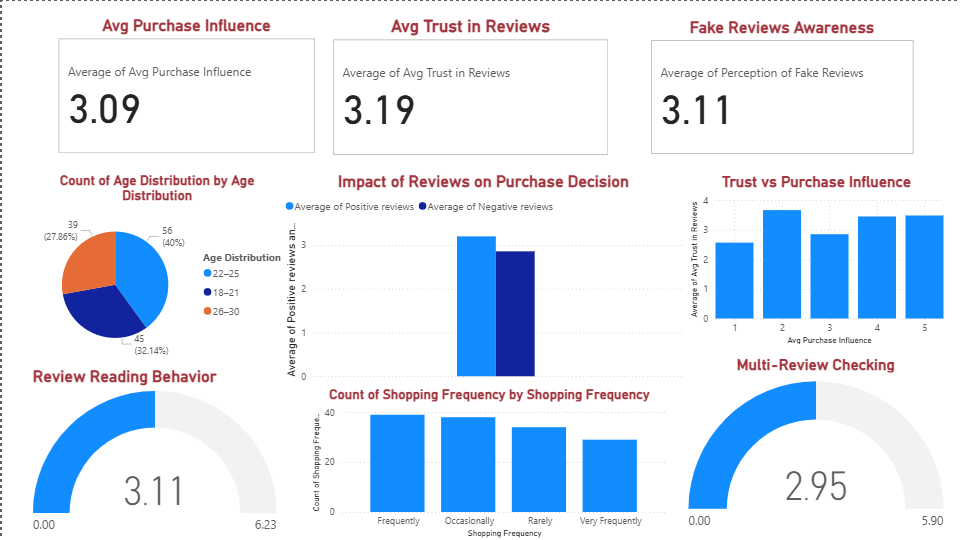

Layout of this report page (visuals, bound fields, positions):
{"tool":"powerbi","page":{"name":"Page 1","canvas":[1280,720],"ordinal":0},"visuals":[{"type":"pieChart","fields":{"Category":["Timestamp (Sheet1).Age group"],"Y":["CountNonNull(Timestamp (Sheet1).Age group)"]},"box":[28,228,358,260],"z":0},{"type":"cardVisual","title":"Avg Purchase Influence","fields":{"Data":["Avg(Timestamp (Sheet1).Avg Purchase Influence)"]},"box":[70,20,352,188],"z":1},{"type":"cardVisual","title":"Avg Trust in Reviews","fields":{"Data":["Avg(Timestamp (Sheet1).Avg Trust in Reviews)"]},"box":[435,20,377.5,190],"z":2},{"type":"cardVisual","title":"Fake Reviews Awareness","fields":{"Data":["Avg(Timestamp (Sheet1).Perception of Fake Reviews)"]},"box":[860,22.5,360,187.5],"z":3},{"type":"clusteredColumnChart","fields":{"Category":["Timestamp (Sheet1).How often do you shop online?"],"Y":["CountNonNull(Timestamp (Sheet1).How often do you shop online?)"]},"box":[408,514,484,206],"z":4},{"type":"clusteredColumnChart","title":"Impact of Reviews on Purchase Decision","fields":{"Y":["Avg(Timestamp (Sheet1).Positive reviews increase my likelihood of purchasing a product.)","Avg(Timestamp (Sheet1).Negative reviews discourage me from buying a product.)"]},"box":[372,228,540,286],"z":5},{"type":"gauge","title":"Review Reading Behavior","fields":{"Y":["Avg(Timestamp (Sheet1).How often do you read online reviews before purchasing a product?)"]},"box":[35,487.5,335,232.5],"z":7},{"type":"gauge","title":"Multi-Review Checking","fields":{"Y":["Avg(Timestamp (Sheet1).I check multiple reviews before making a final purchase decision.)"]},"box":[910,472.5,350,247.5],"z":8},{"type":"clusteredColumnChart","title":"Trust vs Purchase Influence","fields":{"Category":["Timestamp (Sheet1).Avg Purchase Influence"],"Y":["Avg(Timestamp (Sheet1).Avg Trust in Reviews)"]},"box":[912,228,348,234],"z":9}]}

Visuals, with their boxes in screenshot pixels (x1, y1, x2, y2), scaled from the page's 1280x720 canvas onto the 961x540 screenshot:
pieChart - Timestamp (Sheet1).Age group x CountNonNull(Timestamp (Sheet1).Age group): box(21, 171, 290, 366)
"Avg Purchase Influence" cardVisual: box(53, 15, 317, 156)
"Avg Trust in Reviews" cardVisual: box(327, 15, 610, 158)
"Fake Reviews Awareness" cardVisual: box(646, 17, 916, 158)
clusteredColumnChart - Timestamp (Sheet1).How often do you shop online? x CountNonNull(Timestamp (Sheet1).How often do you shop online?): box(306, 386, 670, 539)
"Impact of Reviews on Purchase Decision" clusteredColumnChart: box(279, 171, 685, 386)
"Review Reading Behavior" gauge: box(26, 366, 278, 539)
"Multi-Review Checking" gauge: box(683, 354, 946, 539)
"Trust vs Purchase Influence" clusteredColumnChart: box(685, 171, 946, 346)
